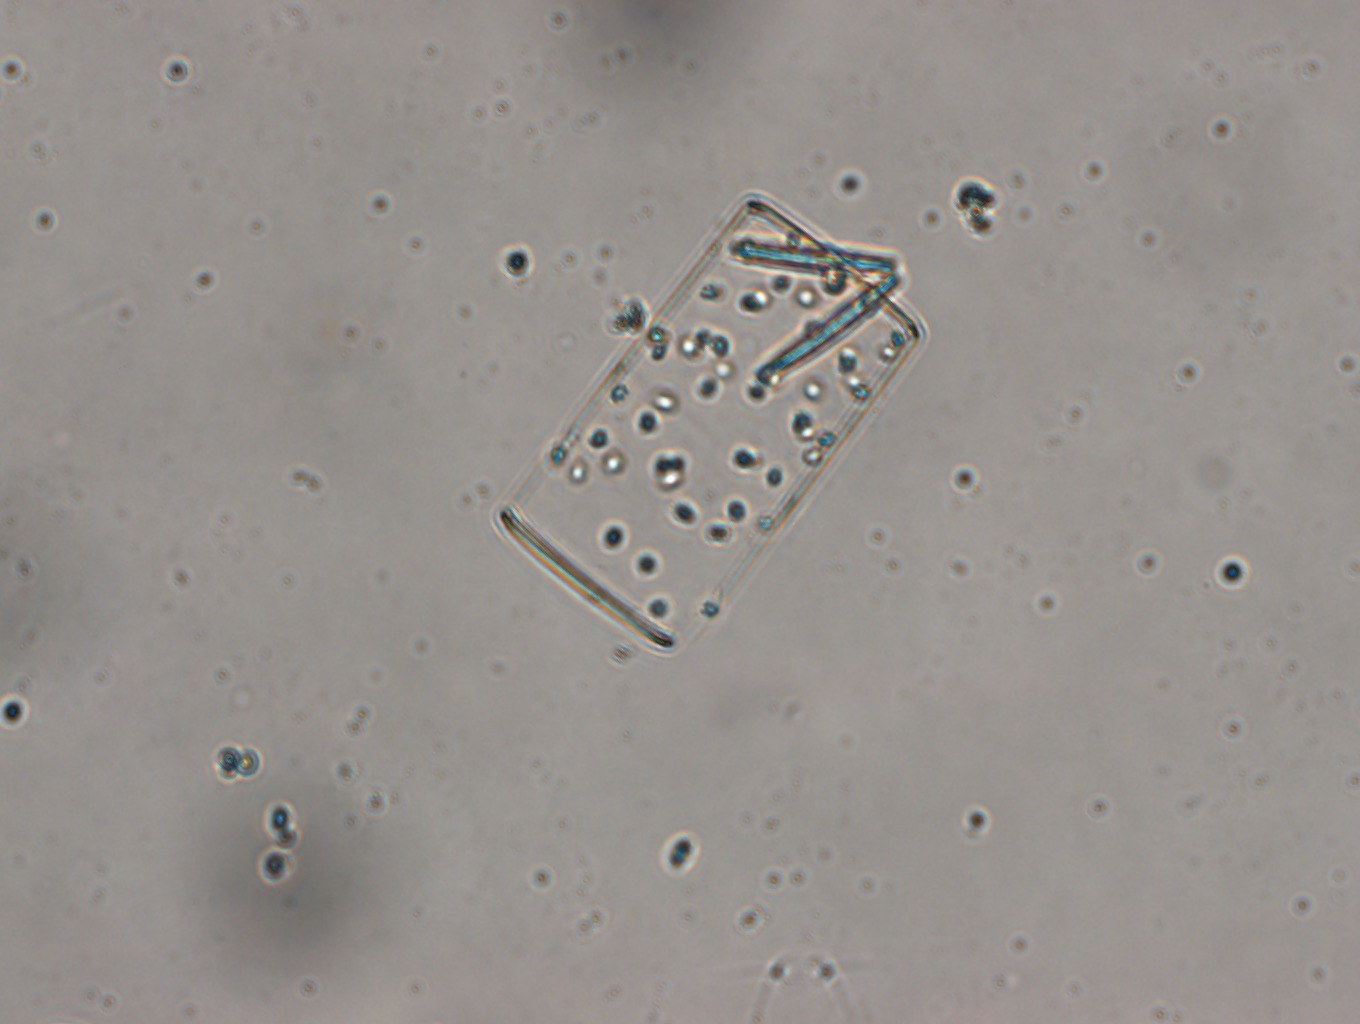guinardia flaccida: (491, 190, 930, 655)
